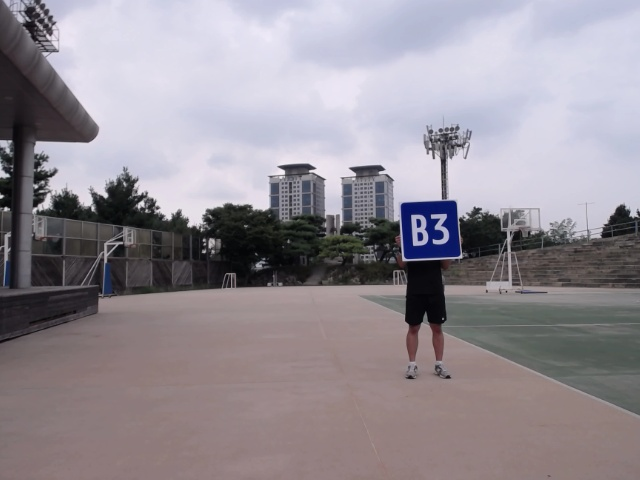delivery_b3: (399, 201, 464, 262)
